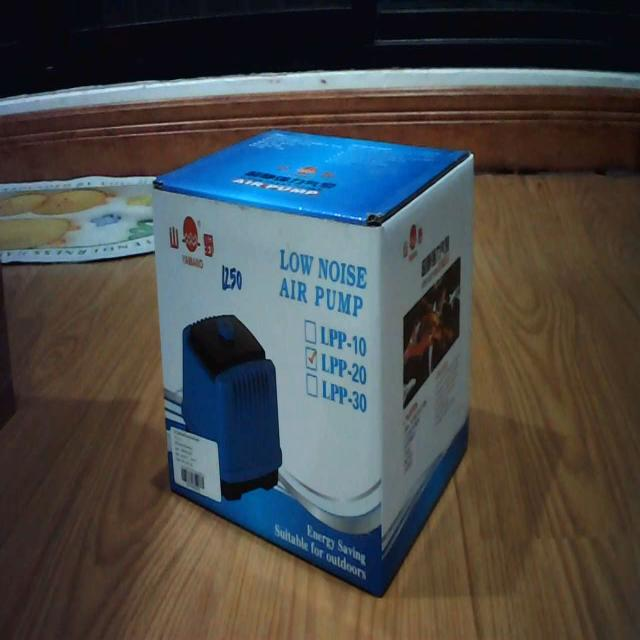YAMANO_LPP_20: (145, 115, 482, 602)
